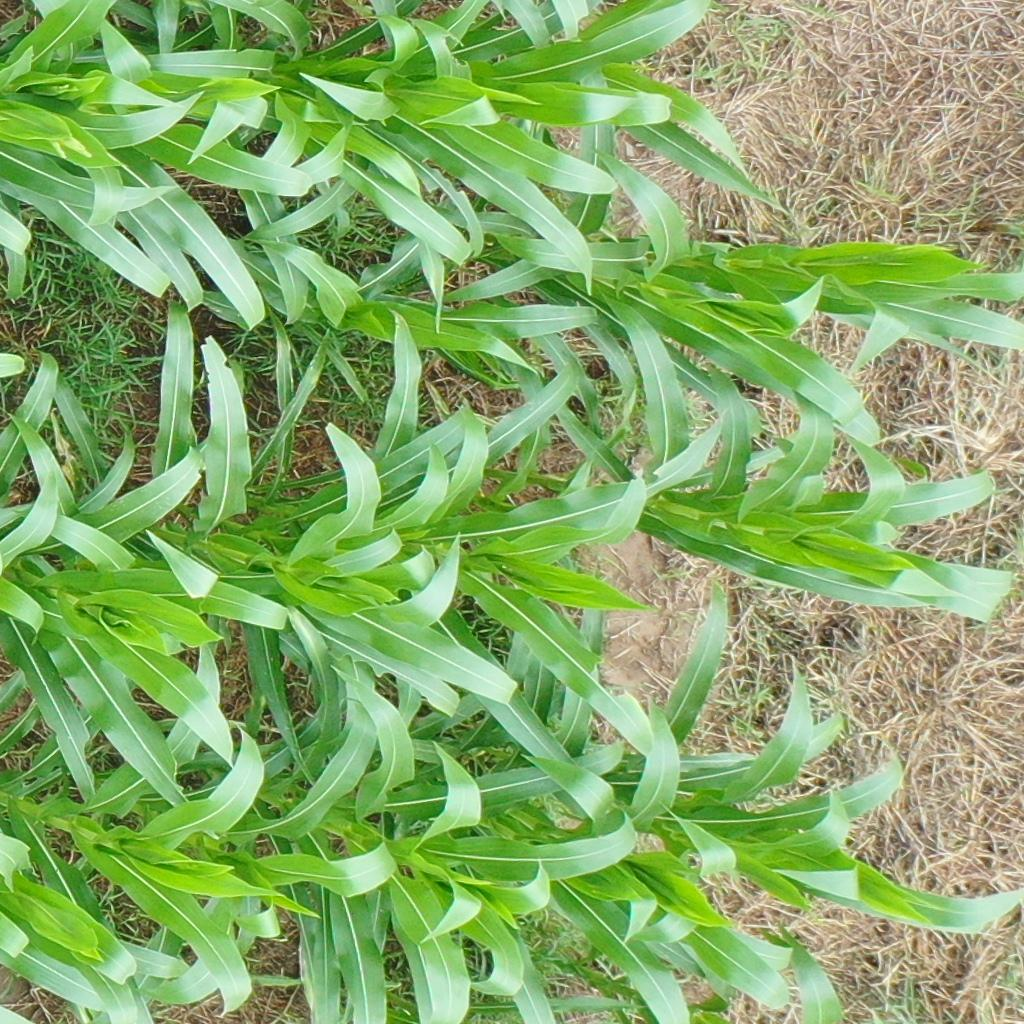Tassel: (47, 132, 96, 164)
